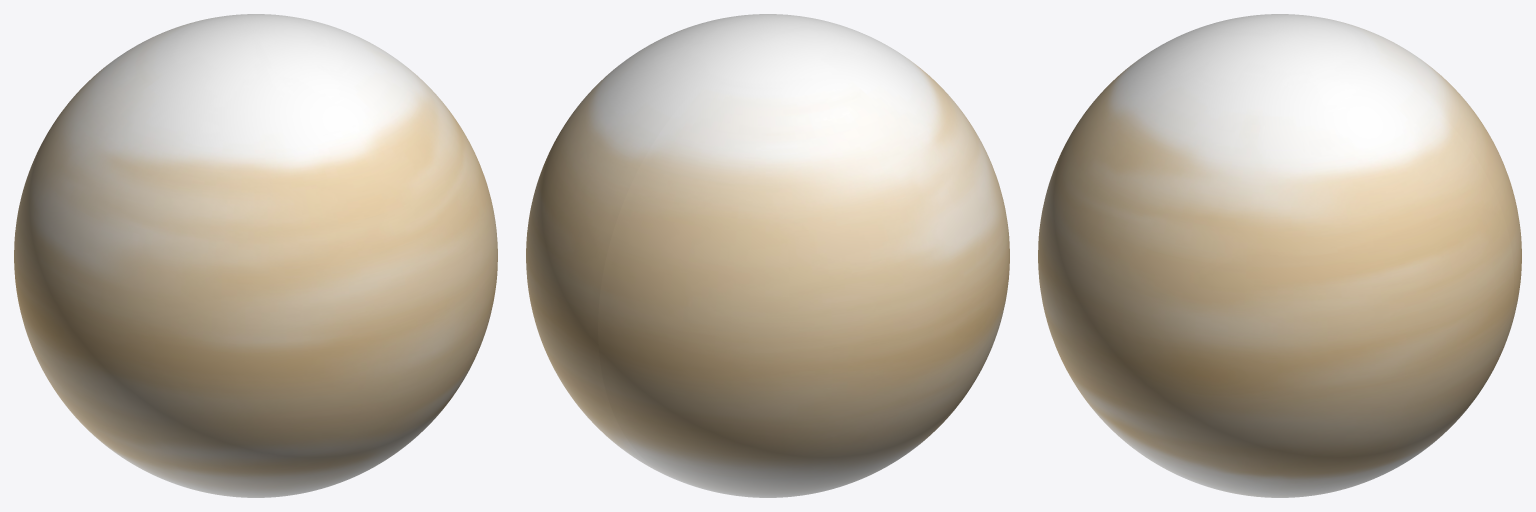
Rendered from venus.glb.
The picture shows the model from 3 angles, left to right: view 1: azimuth 30°, elevation 25°; view 2: azimuth 150°, elevation 25°; view 3: azimuth 270°, elevation 25°; orthographic projection.
Parts seen in each view (by area): view 1: Body; view 2: Body; view 3: Body.
Boxes of the visible parts, x1,y1,x2,y2 form: Body: (14, 14, 497, 497); Body: (526, 14, 1009, 497); Body: (1038, 14, 1521, 497).
Bounding box in the file's own units: 2 × 2 × 2.
Materials: 1 (1 with a texture image).
